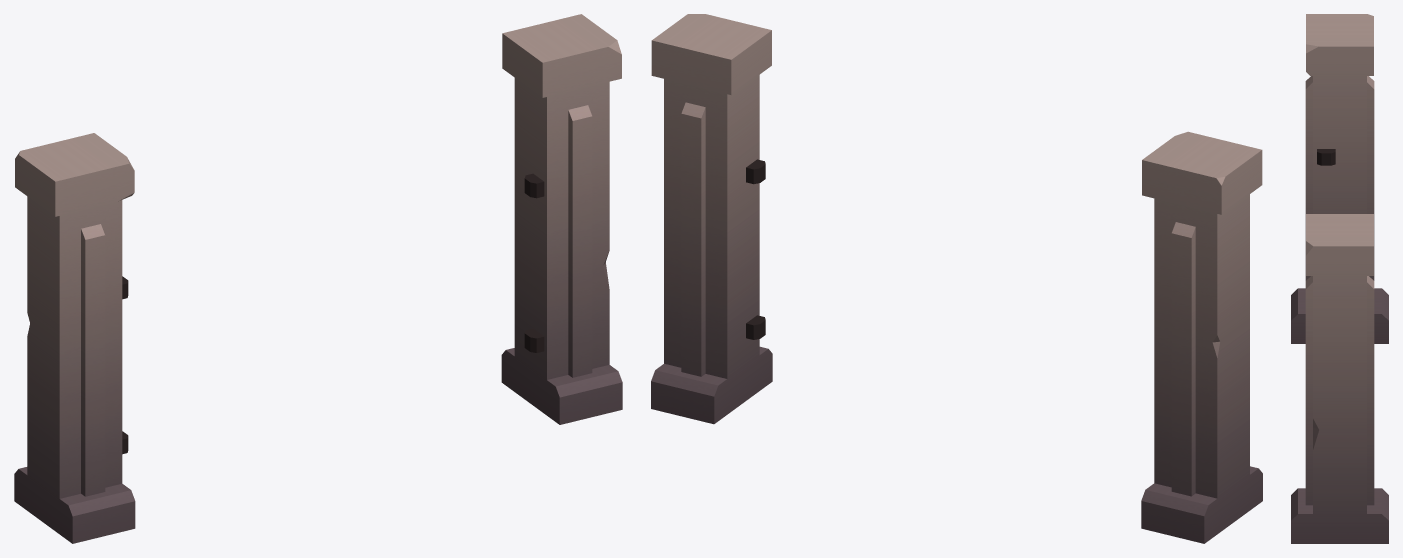
Rendered from fenceAGate.glb.
3 views of the same model, side by side, from view 1: azimuth 30°, elevation 25°; view 2: azimuth 150°, elevation 25°; view 3: azimuth 270°, elevation 25° (orthographic). The views are drawn at different scales.
Parts seen in each view (by area): view 1: fenceAGate; view 2: fenceAGate; view 3: fenceAGate.
Boxes of the visible parts, x1=… form: fenceAGate: x1=14, y1=14, x2=622, y2=543; fenceAGate: x1=651, y1=14, x2=1262, y2=543; fenceAGate: x1=1291, y1=14, x2=1388, y2=543.
Bounding box in the file's own units: 4.58 × 2.76 × 0.8154.
1 material, 1 textured.
